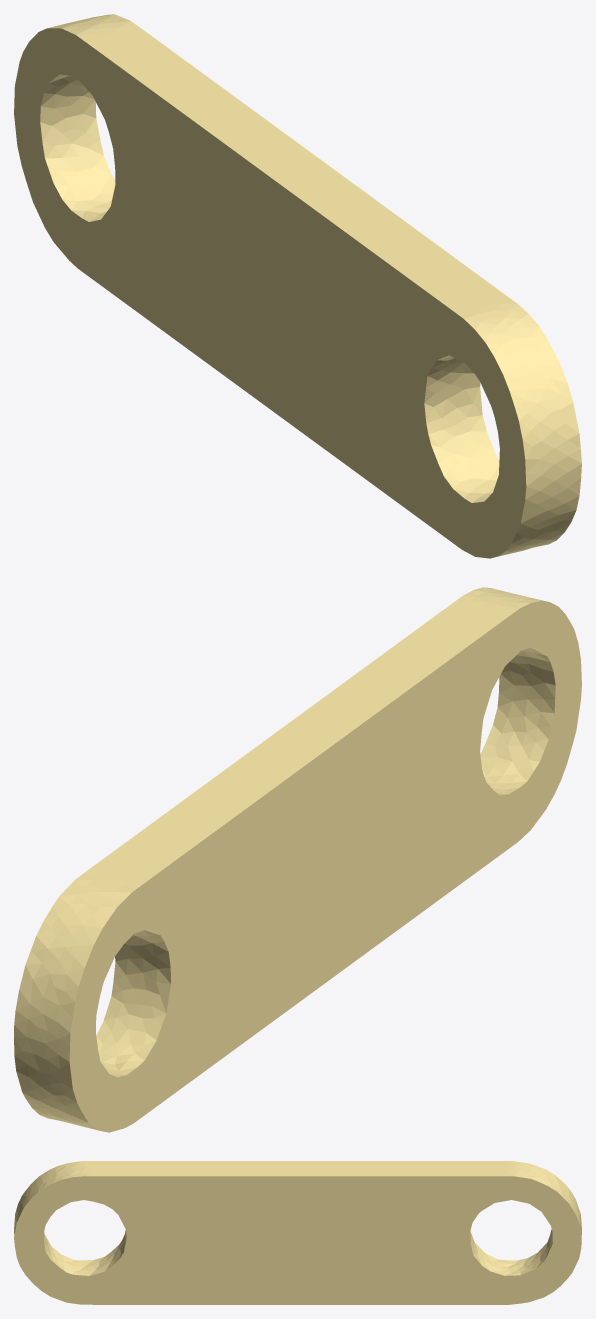
Rendered from input.gltf.
3 views of the same model, one above another, from view 1: azimuth 30°, elevation 25°; view 2: azimuth 150°, elevation 25°; view 3: azimuth 270°, elevation 25° (orthographic). The views are drawn at different scales.
Visible parts, largest first — view 1: Renderer Node; view 2: Renderer Node; view 3: Renderer Node.
Part boxes in pixels (x1,y1,x2,y2): Renderer Node: (14,14,581,558); Renderer Node: (14,587,581,1132); Renderer Node: (14,1161,581,1304).
Size of the model in its own units: 0.0938 by 0.373 by 1.49.
